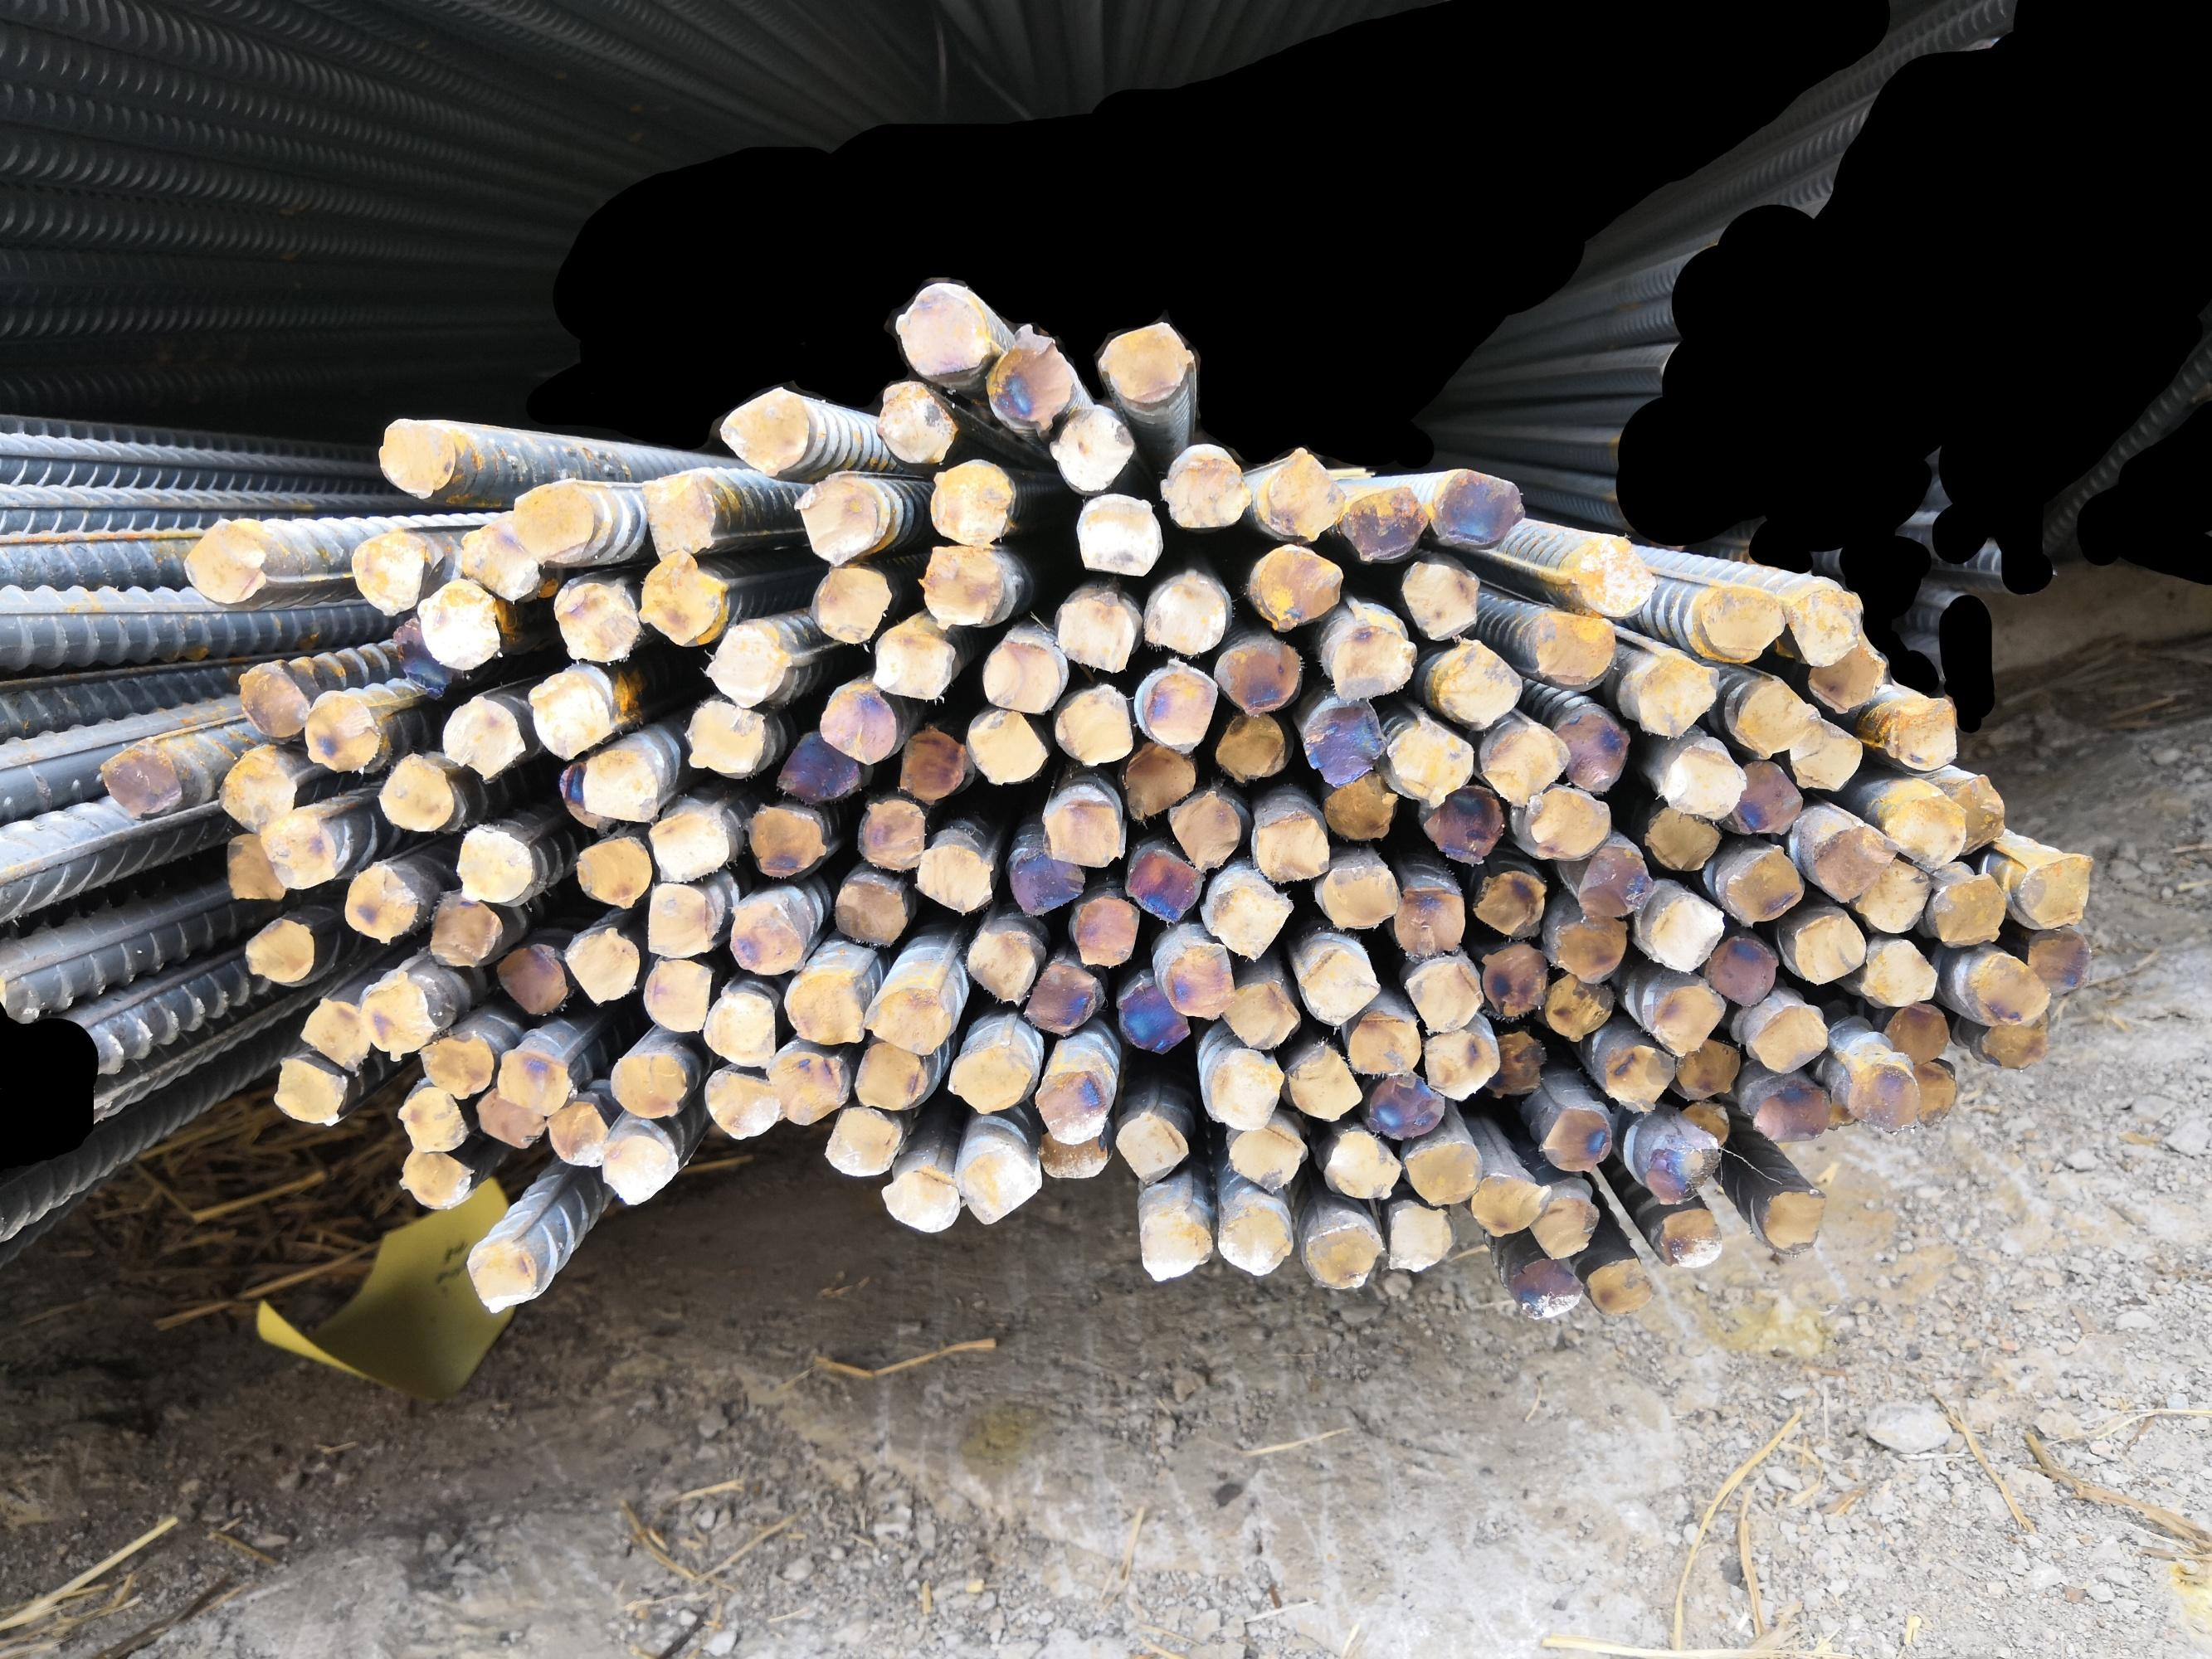bar: (985, 325, 1071, 435), (893, 283, 987, 377), (524, 664, 616, 761), (1099, 318, 1193, 403), (719, 382, 809, 471), (1260, 444, 1341, 541), (923, 460, 1014, 547), (639, 554, 725, 641), (953, 1141, 1040, 1224), (1074, 494, 1163, 577), (1384, 723, 1474, 805), (439, 694, 528, 776), (797, 477, 880, 563), (920, 543, 1010, 624), (1252, 547, 1342, 626), (377, 412, 455, 504), (1304, 696, 1387, 781), (1050, 406, 1137, 488), (1050, 684, 1134, 768), (183, 518, 264, 605), (419, 581, 499, 668), (347, 527, 425, 616), (553, 580, 637, 661), (1812, 823, 1900, 901), (1635, 655, 1719, 736), (512, 483, 594, 565), (1054, 589, 1137, 670), (216, 747, 295, 832), (816, 684, 901, 764), (978, 635, 1061, 715), (1480, 726, 1567, 802), (1736, 674, 1818, 754), (1699, 581, 1785, 659), (1041, 786, 1122, 867), (1146, 570, 1225, 652), (1208, 879, 1291, 957), (876, 381, 955, 462), (726, 896, 808, 974), (704, 624, 787, 701), (341, 861, 417, 945), (360, 975, 432, 1063), (783, 968, 865, 1046), (1436, 648, 1521, 722), (1163, 943, 1240, 1025), (684, 701, 767, 776), (1522, 787, 1610, 858), (965, 922, 1040, 1006), (1436, 473, 1521, 547), (1661, 743, 1744, 818), (454, 825, 532, 902), (1400, 560, 1477, 639), (301, 692, 377, 772), (460, 523, 540, 598), (1788, 583, 1861, 666), (1158, 459, 1247, 527), (638, 475, 714, 555), (1287, 1044, 1362, 1122), (808, 567, 889, 641), (964, 709, 1046, 781), (943, 1046, 1030, 1114), (237, 662, 309, 745), (259, 810, 334, 889), (1299, 949, 1378, 1024), (100, 747, 181, 820), (872, 626, 953, 699), (648, 809, 729, 881), (1216, 640, 1298, 711), (1724, 849, 1801, 924), (426, 890, 501, 968), (776, 732, 863, 799), (1553, 712, 1627, 790), (378, 753, 451, 832), (915, 842, 994, 915), (1644, 895, 1723, 968), (571, 837, 653, 907), (1331, 625, 1413, 694), (1137, 1205, 1214, 1279), (1425, 786, 1503, 859), (1649, 979, 1723, 1056), (745, 805, 824, 877), (1345, 489, 1425, 560), (765, 1053, 845, 1123), (1577, 538, 1653, 613), (1885, 797, 1965, 868), (864, 987, 949, 1053), (1250, 815, 1331, 883), (1142, 670, 1216, 745), (1206, 1049, 1279, 1126), (1127, 844, 1201, 919), (1642, 1127, 1717, 1201), (1534, 614, 1617, 680), (1391, 888, 1469, 959), (894, 729, 967, 805), (1975, 951, 2051, 1023), (1733, 761, 1803, 839), (1036, 1068, 1108, 1143), (701, 994, 777, 1064), (824, 1107, 900, 1177), (1300, 1224, 1383, 1289), (1855, 940, 1938, 1005), (1466, 1170, 1547, 1236), (1123, 744, 1196, 818), (1478, 943, 1549, 1018), (1550, 916, 1626, 985), (565, 932, 637, 1005), (1424, 1029, 1498, 1100), (1576, 846, 1650, 917), (1118, 976, 1188, 1051), (641, 959, 711, 1034), (1929, 876, 2005, 945), (1365, 1076, 1445, 1141), (1212, 714, 1285, 786), (1857, 859, 1931, 930), (271, 1057, 346, 1126), (584, 752, 660, 820), (1171, 792, 1240, 868), (2019, 855, 2094, 924), (703, 1070, 779, 1138), (1404, 1141, 1481, 1208), (1026, 963, 1101, 1032), (1407, 960, 1482, 1029), (602, 1135, 676, 1203), (302, 995, 368, 1072), (1323, 1132, 1401, 1198), (644, 883, 711, 958), (1113, 1117, 1189, 1182), (465, 1241, 538, 1310), (1009, 846, 1081, 915), (834, 877, 907, 945), (1218, 1208, 1291, 1276), (1752, 1004, 1825, 1071), (1536, 1105, 1611, 1170), (1228, 1127, 1304, 1192), (392, 1150, 475, 1209), (879, 1170, 961, 1231), (1793, 912, 1862, 983), (1889, 695, 1958, 766), (243, 915, 315, 983), (497, 1050, 572, 1116), (610, 1053, 686, 1117), (1319, 864, 1396, 927), (859, 798, 927, 869), (1069, 896, 1137, 968), (1942, 775, 2004, 854), (1808, 646, 1883, 711), (1221, 982, 1298, 1045), (1845, 1062, 1913, 1132), (496, 945, 564, 1014), (1705, 937, 1776, 1003), (855, 1044, 927, 1110), (1384, 1204, 1450, 1274), (1471, 873, 1544, 937), (1644, 808, 1720, 869), (1544, 974, 1615, 1039), (420, 1035, 494, 1097), (397, 1087, 469, 1151), (1793, 720, 1859, 788), (1325, 775, 1395, 839), (1349, 1014, 1421, 1076), (1510, 1260, 1583, 1321), (392, 621, 451, 695), (1602, 1046, 1672, 1107), (1751, 1087, 1830, 1141), (226, 829, 285, 900), (1756, 1188, 1822, 1251), (1532, 1193, 1596, 1257), (2026, 927, 2091, 990), (474, 1090, 544, 1146), (545, 1103, 607, 1166), (1884, 1003, 1949, 1061), (1586, 1257, 1653, 1311), (1660, 1209, 1721, 1268), (1676, 1042, 1740, 1097), (1977, 1016, 2046, 1067), (1488, 1032, 1544, 1094), (1036, 1131, 1109, 1177), (561, 766, 604, 829), (1912, 1063, 1956, 1124), (1683, 1101, 1730, 1147), (1827, 1102, 1854, 1129)
